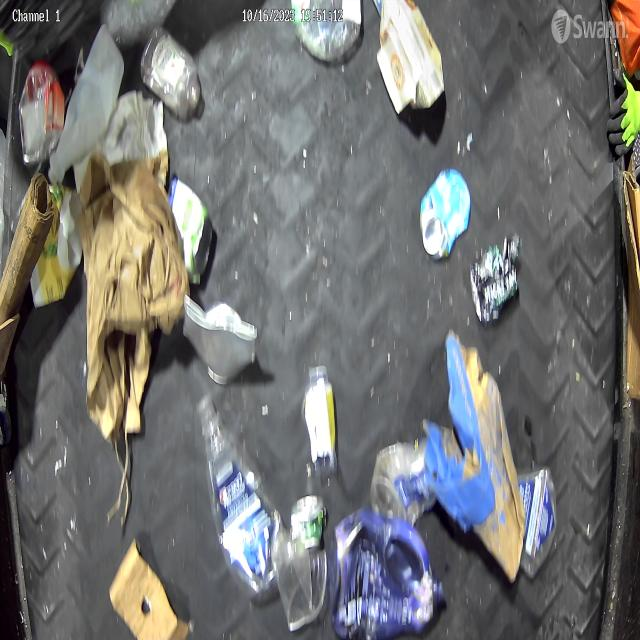can: (161, 171, 212, 289), (416, 171, 472, 266), (286, 489, 328, 557)
milk_jug: (48, 26, 128, 190)
non_white_jug: (335, 507, 449, 640)
